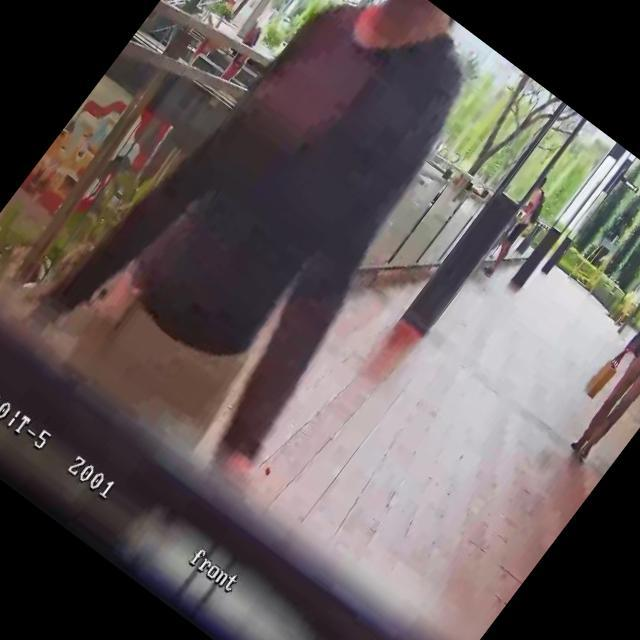person: (12, 0, 539, 483), (554, 244, 640, 477), (474, 175, 562, 282)
